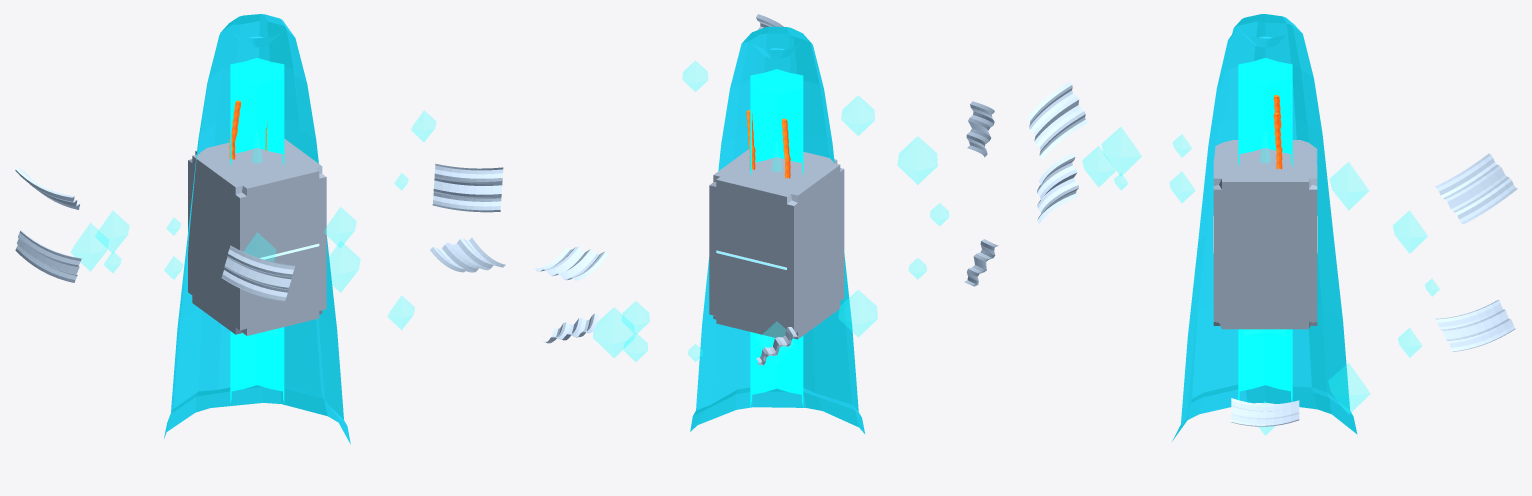
Rendered from storm_monolith.glb.
3 renders of one model, left to right at view 1: azimuth 30°, elevation 25°; view 2: azimuth 150°, elevation 25°; view 3: azimuth 270°, elevation 25°, orthographic. The views are drawn at different scales.
Parts seen in each view (by area): view 1: ConcreteBlock, StormMonolith_Tower, InnerPlasmaCore, TumblingYero_5, TumblingYero_4, TumblingYero_3, TumblingYero_0, OrbitalShard_5, OrbitalShard_1, OrbitalShard_4, OrbitalShard_9, TumblingYero_2 (+2 smaller); view 2: ConcreteBlock, StormMonolith_Tower, InnerPlasmaCore, TumblingYero_0, OrbitalShard_1, OrbitalShard_8, OrbitalShard_5, TumblingYero_4, OrbitalShard_9, TumblingYero_1, TumblingYero_3, OrbitalShard_4 (+3 smaller); view 3: StormMonolith_Tower, ConcreteBlock, InnerPlasmaCore, TumblingYero_2, TumblingYero_4, TumblingYero_1, TumblingYero_5, TumblingYero_0, OrbitalShard_1, OrbitalShard_8, OrbitalShard_5, OrbitalShard_4 (+1 smaller).
Part boxes in pixels (<box>): ConcreteBlock: <box>188,139,326,335</box>; StormMonolith_Tower: <box>164,14,350,444</box>; InnerPlasmaCore: <box>230,57,284,403</box>; TumblingYero_5: <box>432,163,503,212</box>; TumblingYero_4: <box>221,245,295,301</box>; TumblingYero_3: <box>15,230,81,282</box>; TumblingYero_0: <box>430,237,505,272</box>; OrbitalShard_5: <box>71,223,108,271</box>; OrbitalShard_1: <box>329,241,360,292</box>; OrbitalShard_4: <box>95,211,129,252</box>; OrbitalShard_9: <box>324,207,356,248</box>; TumblingYero_2: <box>14,166,80,209</box>; ConcreteBlock: <box>709,149,844,339</box>; StormMonolith_Tower: <box>690,26,864,433</box>; InnerPlasmaCore: <box>750,69,803,407</box>; TumblingYero_0: <box>534,246,608,281</box>; OrbitalShard_1: <box>593,307,634,357</box>; OrbitalShard_8: <box>897,136,937,184</box>; OrbitalShard_5: <box>838,290,877,337</box>; TumblingYero_4: <box>966,101,994,157</box>; OrbitalShard_9: <box>841,95,874,135</box>; TumblingYero_1: <box>543,313,598,343</box>; TumblingYero_3: <box>964,239,998,286</box>; OrbitalShard_4: <box>759,321,793,363</box>; StormMonolith_Tower: <box>1172,14,1357,441</box>; ConcreteBlock: <box>1213,140,1317,329</box>; InnerPlasmaCore: <box>1238,58,1292,401</box>; TumblingYero_2: <box>1435,153,1517,224</box>; TumblingYero_4: <box>1027,82,1088,158</box>; TumblingYero_1: <box>1436,300,1515,351</box>; TumblingYero_5: <box>1037,153,1078,223</box>; TumblingYero_0: <box>1231,398,1299,426</box>; OrbitalShard_1: <box>1328,363,1369,414</box>; OrbitalShard_8: <box>1101,127,1141,175</box>; OrbitalShard_5: <box>1330,162,1368,210</box>; OrbitalShard_4: <box>1393,210,1427,253</box>.
Bounding box in the file's own units: 7.71 × 6.61 × 7.07.
